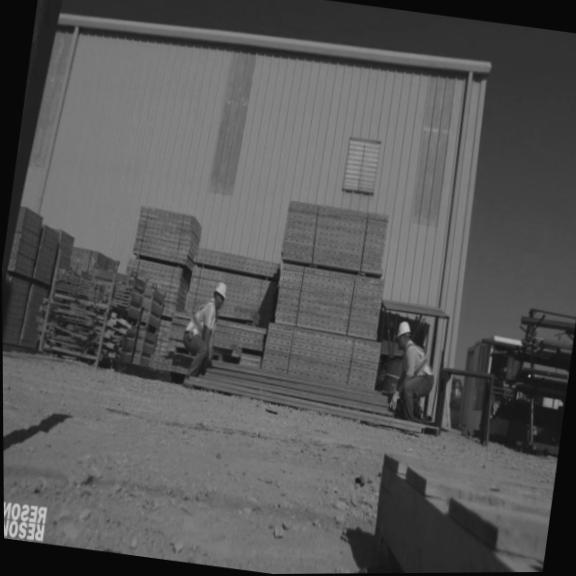safety_vest: (183, 296, 222, 339), (404, 340, 440, 379)
